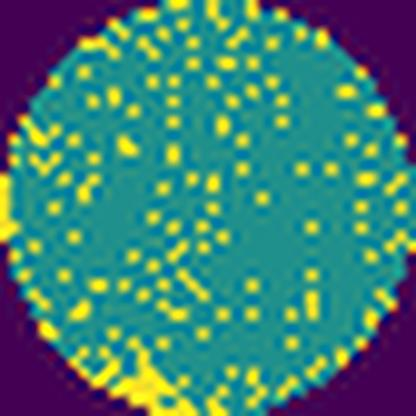Edge-Loc: (67, 331, 200, 415), (0, 161, 22, 244)
